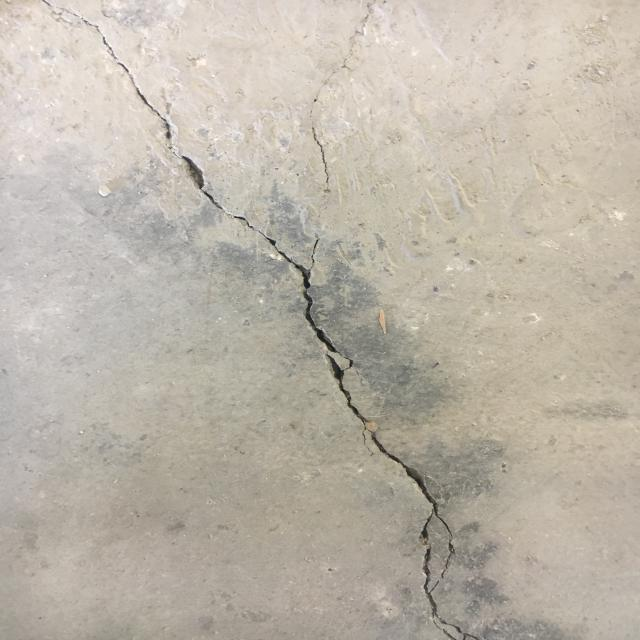Rachadura: (40, 0, 488, 640)
